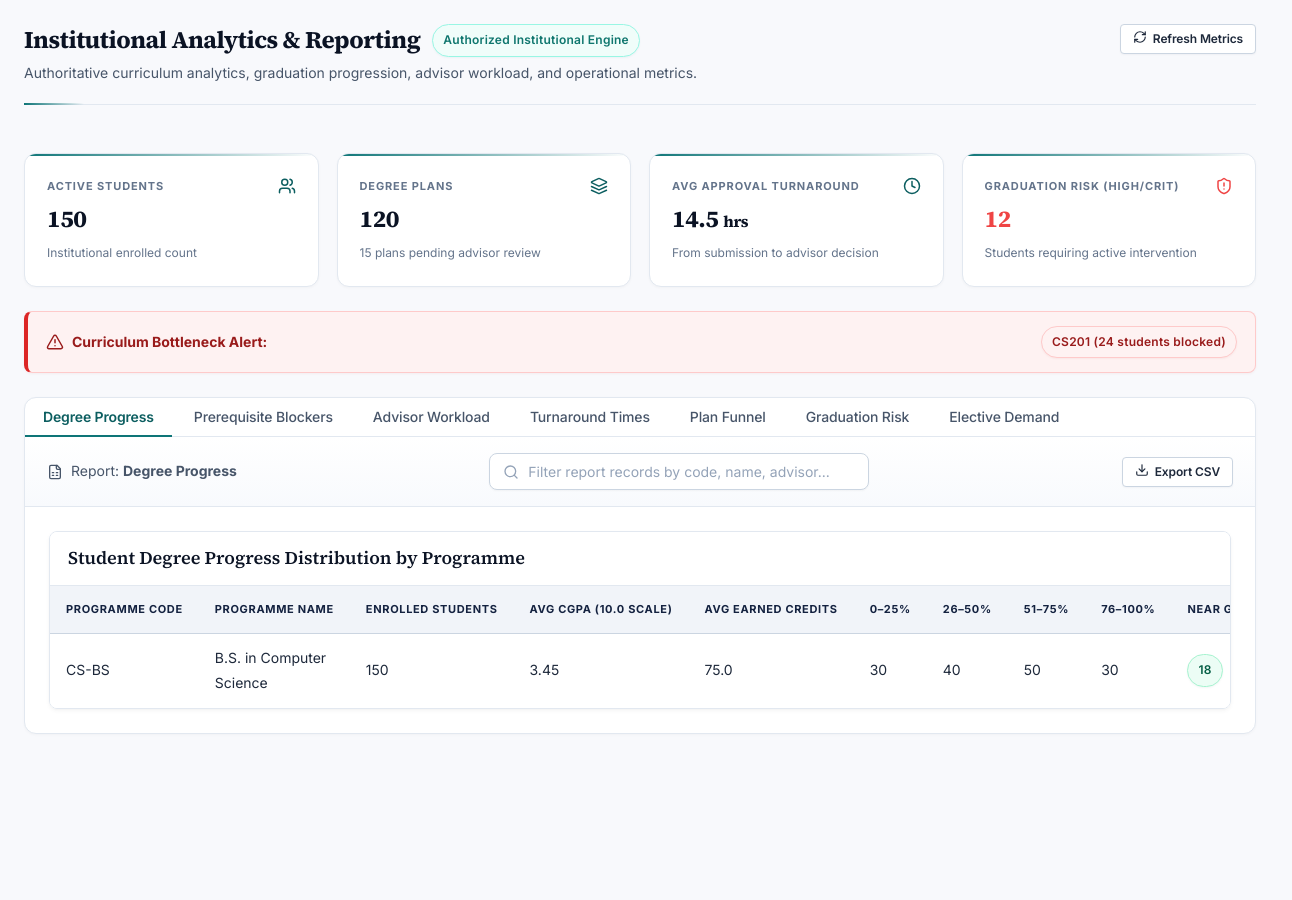
AnalyticsDashboardPage › switches between tabs and loads corresponding report data
// Click Prerequisite Blockers tab
Click the tab "Prerequisite Blockers". click: (263, 418)
box: [176,398,351,437]
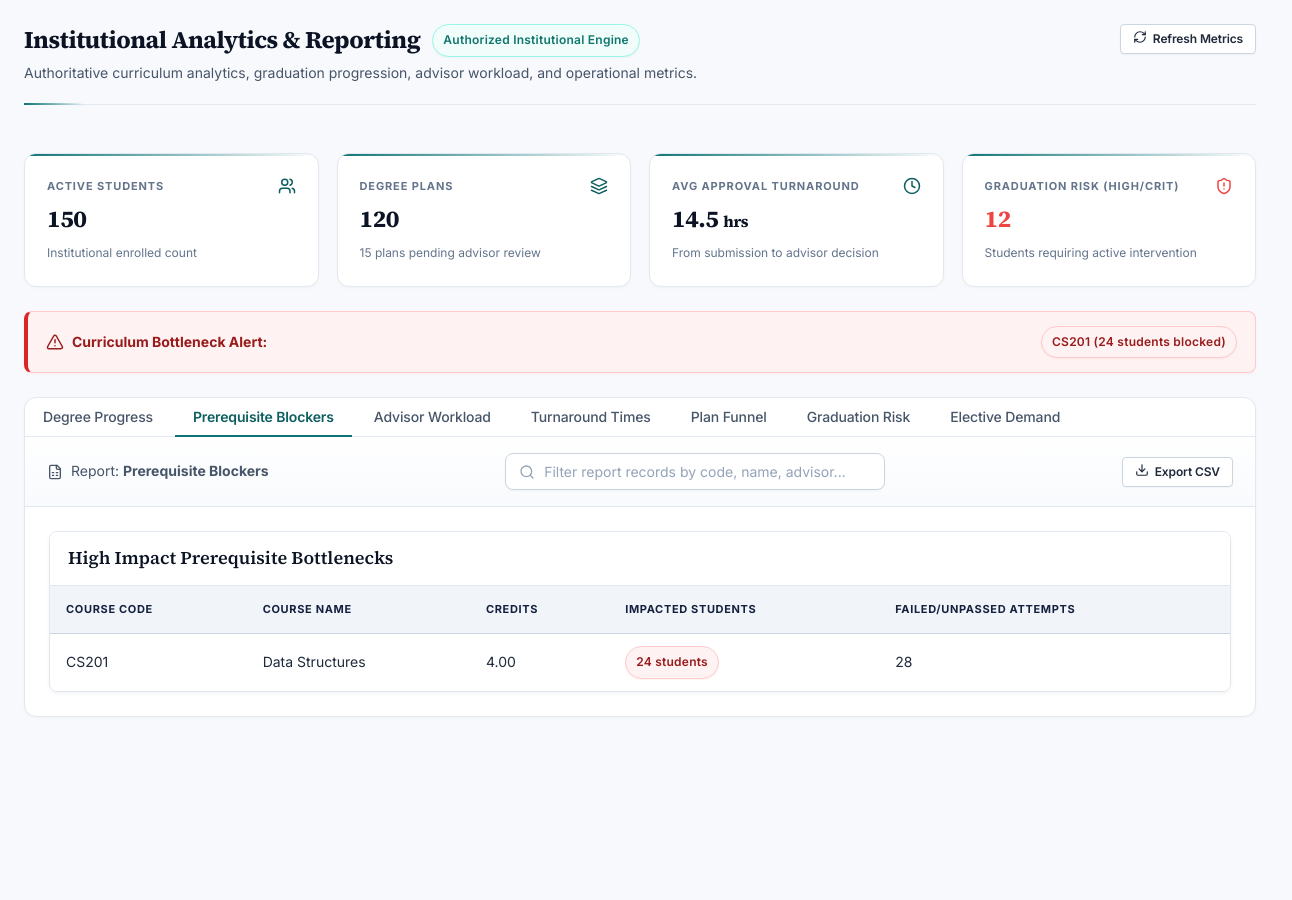
Expected: the column heading "Failed/Unpassed Attempts" is shown, [879,586,1230,634]
Expected: the text "24 students" is shown, [636,650,708,675]
// Click Advisor Workload tab
Click the tab "Advisor Workload". click: (432, 418)
box: [356,398,509,437]
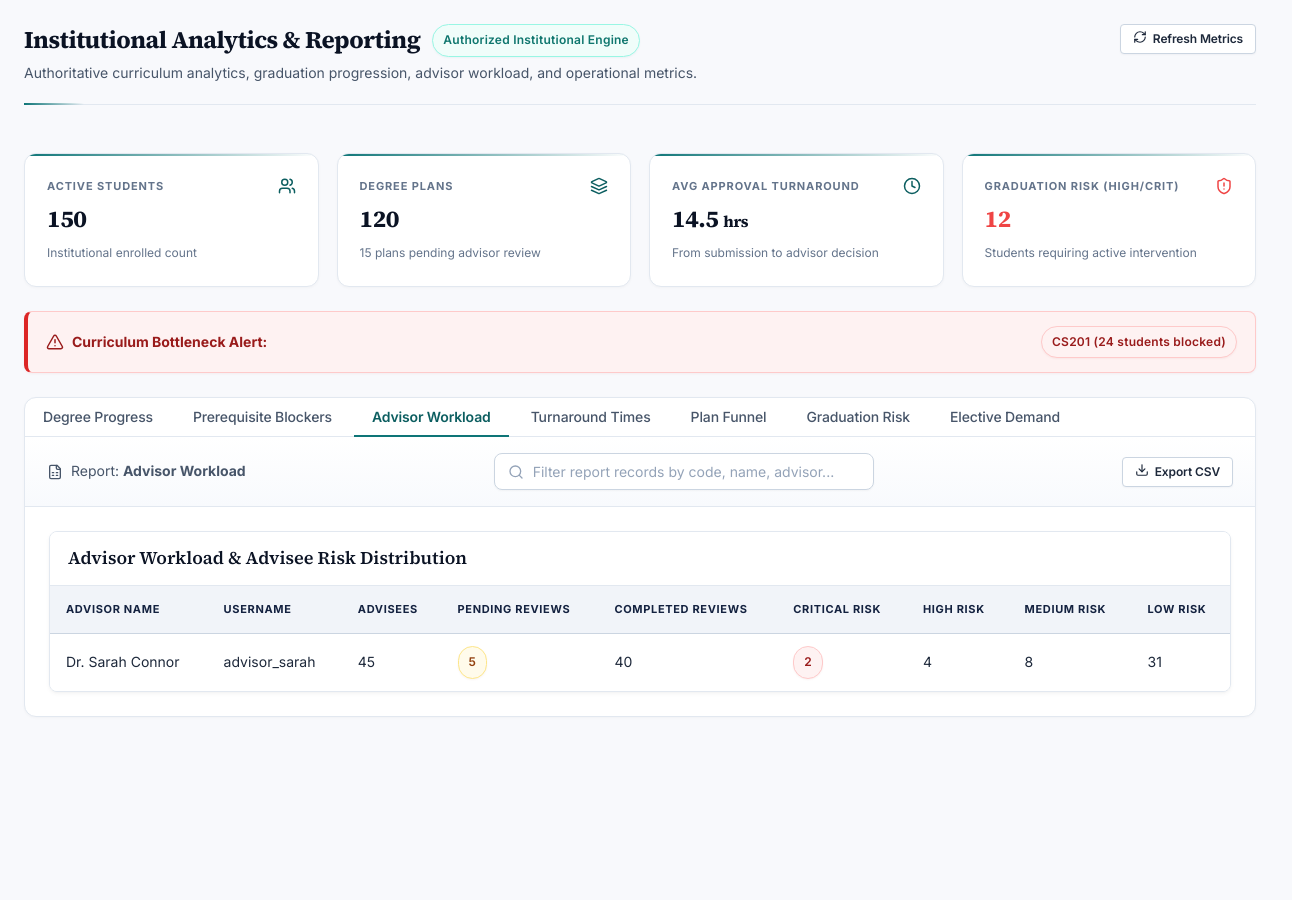
Expected: the text "Dr. Sarah Connor" is shown, [50,634,208,691]
Expected: the text "45" is shown, [342,634,442,691]
// Click Turnaround Times tab
Click the tab "Turnaround Times". click: (591, 418)
box: [513,398,669,437]
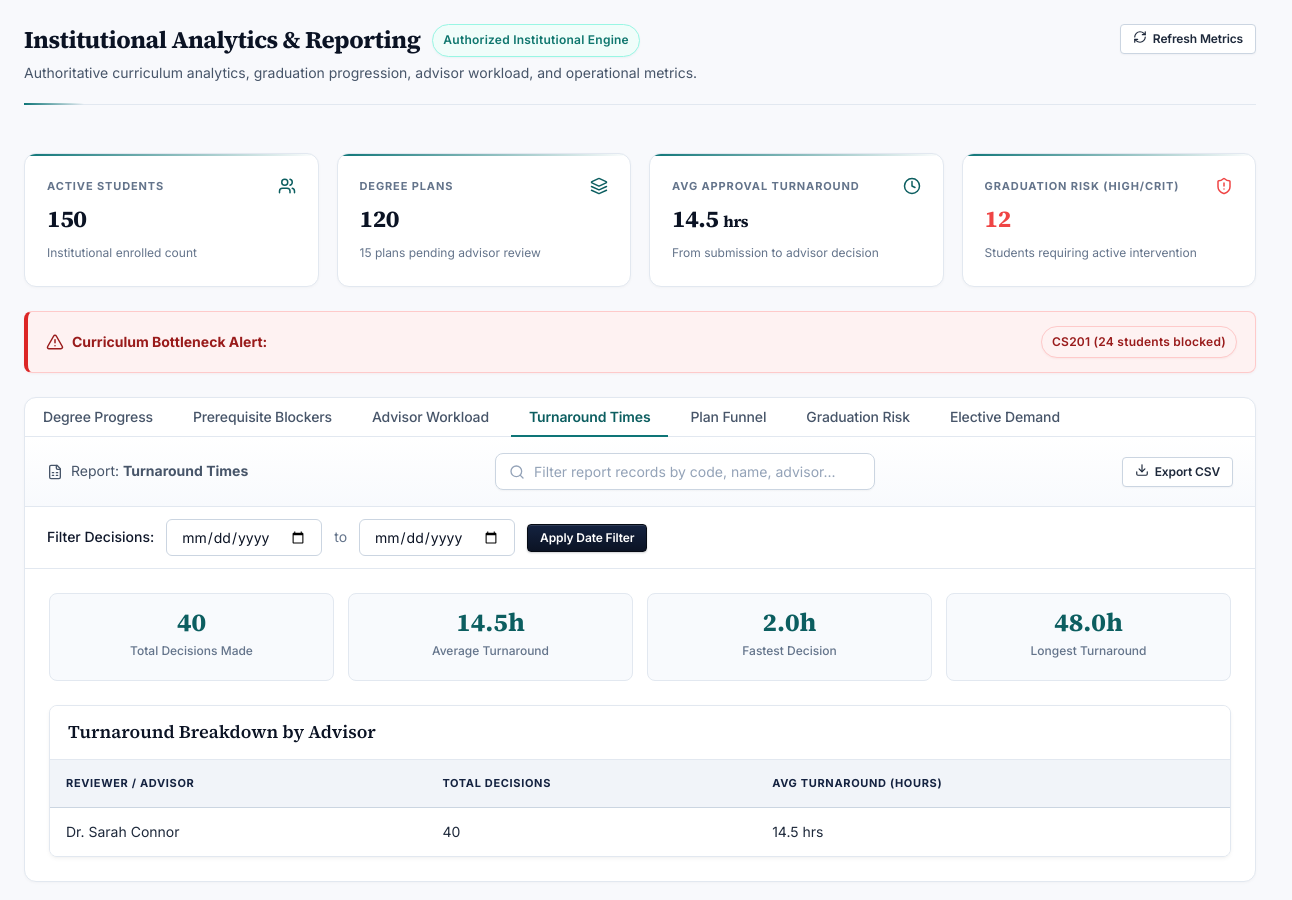
Expected: the text "Fastest Decision" is shown, [742,643,837,658]
Expected: the text "Total Decisions Made" is shown, [130,643,253,658]
// Click Plan Funnel tab
Click the tab "Plan Funnel". click: (728, 418)
box: [672,398,784,437]
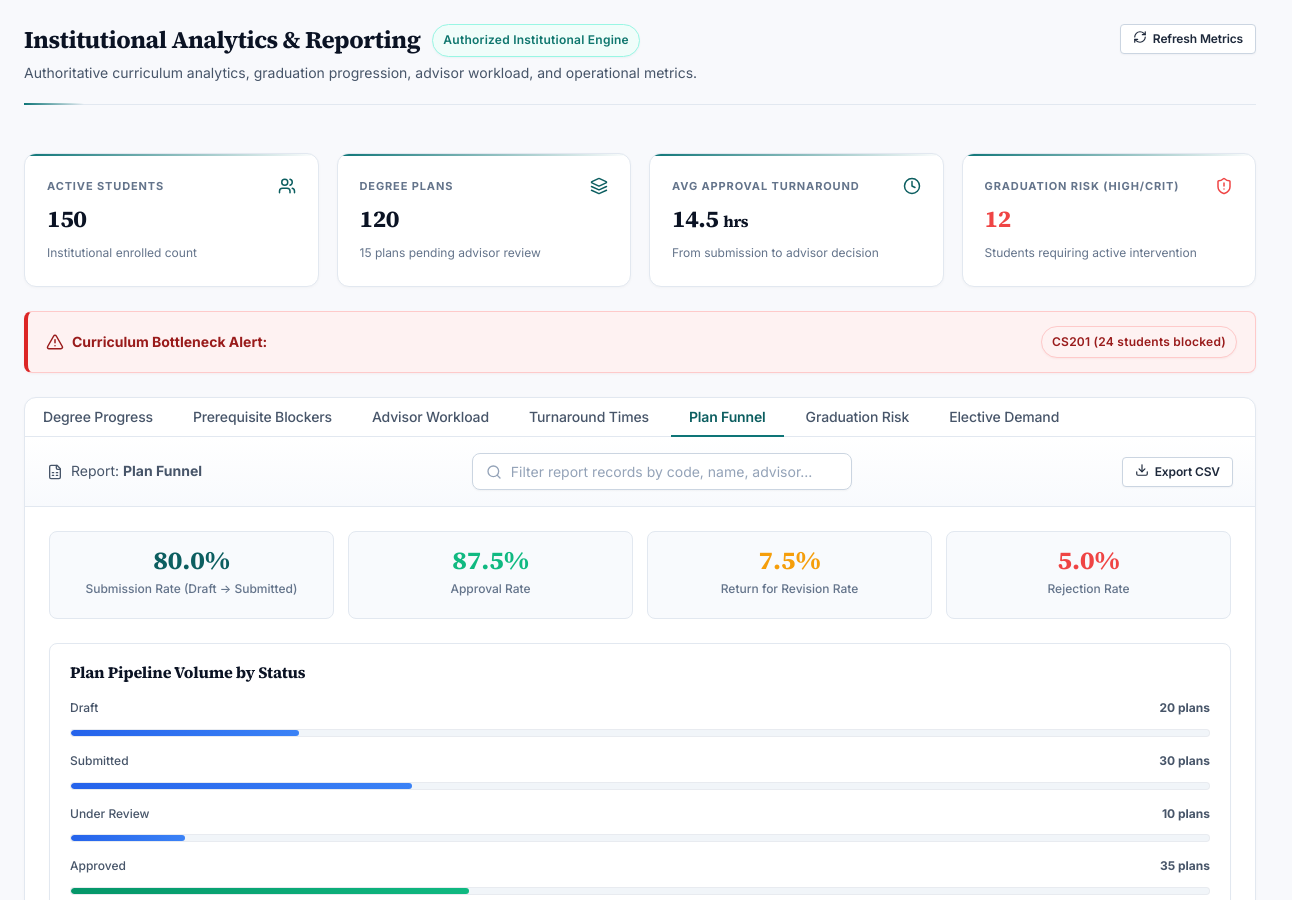
Expected: the text "80.0%" is shown, [153,542,230,578]
Expected: the heading "Plan Pipeline Volume by Status" is shown, [70,661,305,683]
// Click Graduation Risk tab
Click the tab "Graduation Risk". click: (857, 418)
box: [788,398,927,437]
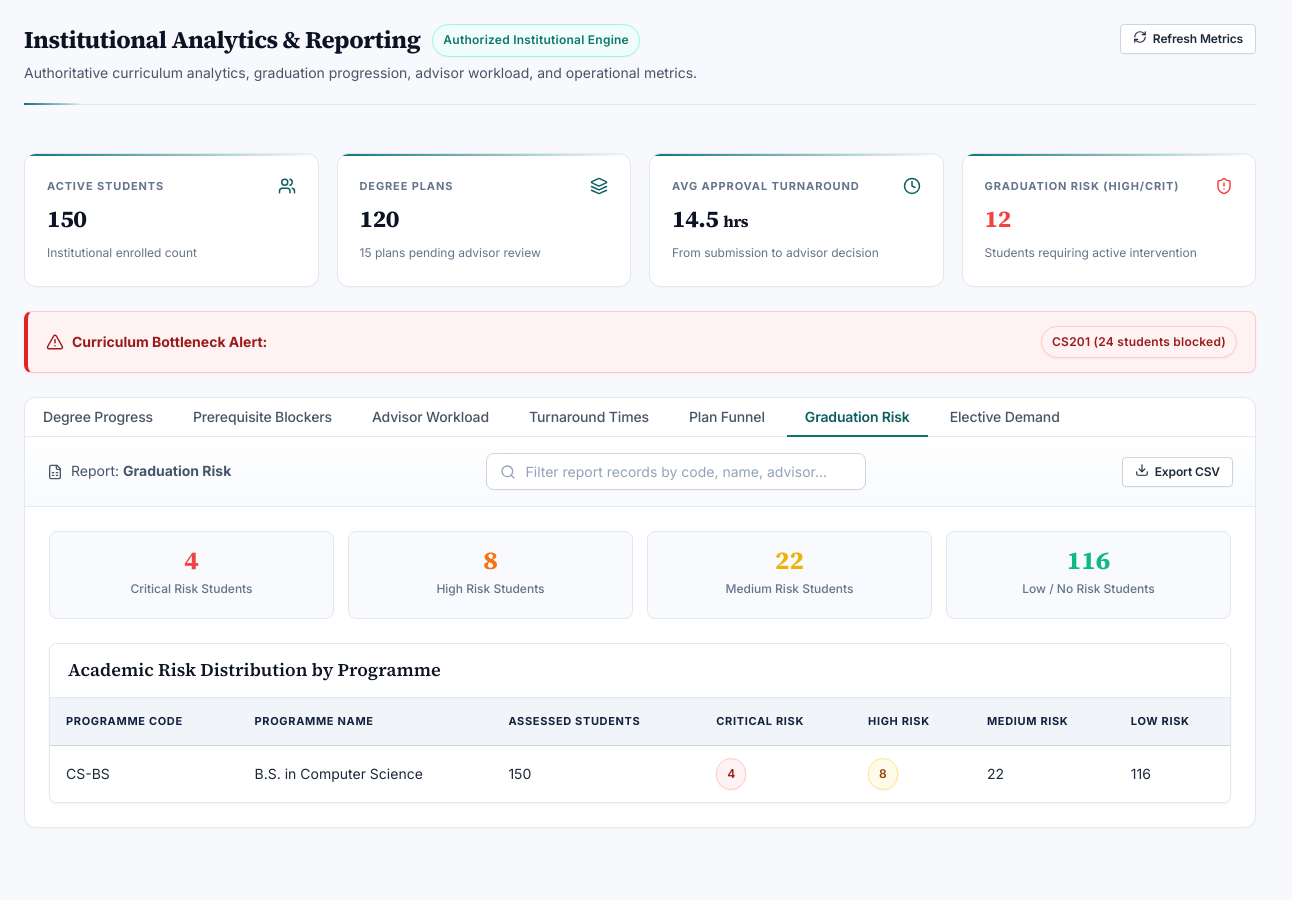
Expected: the text "Critical Risk Students" is shown, [130,581,252,596]
Expected: the text "High Risk Students" is shown, [436,581,545,596]
// Click Elective Demand tab
Click the tab "Elective Demand". click: (1005, 418)
box: [932,398,1078,437]
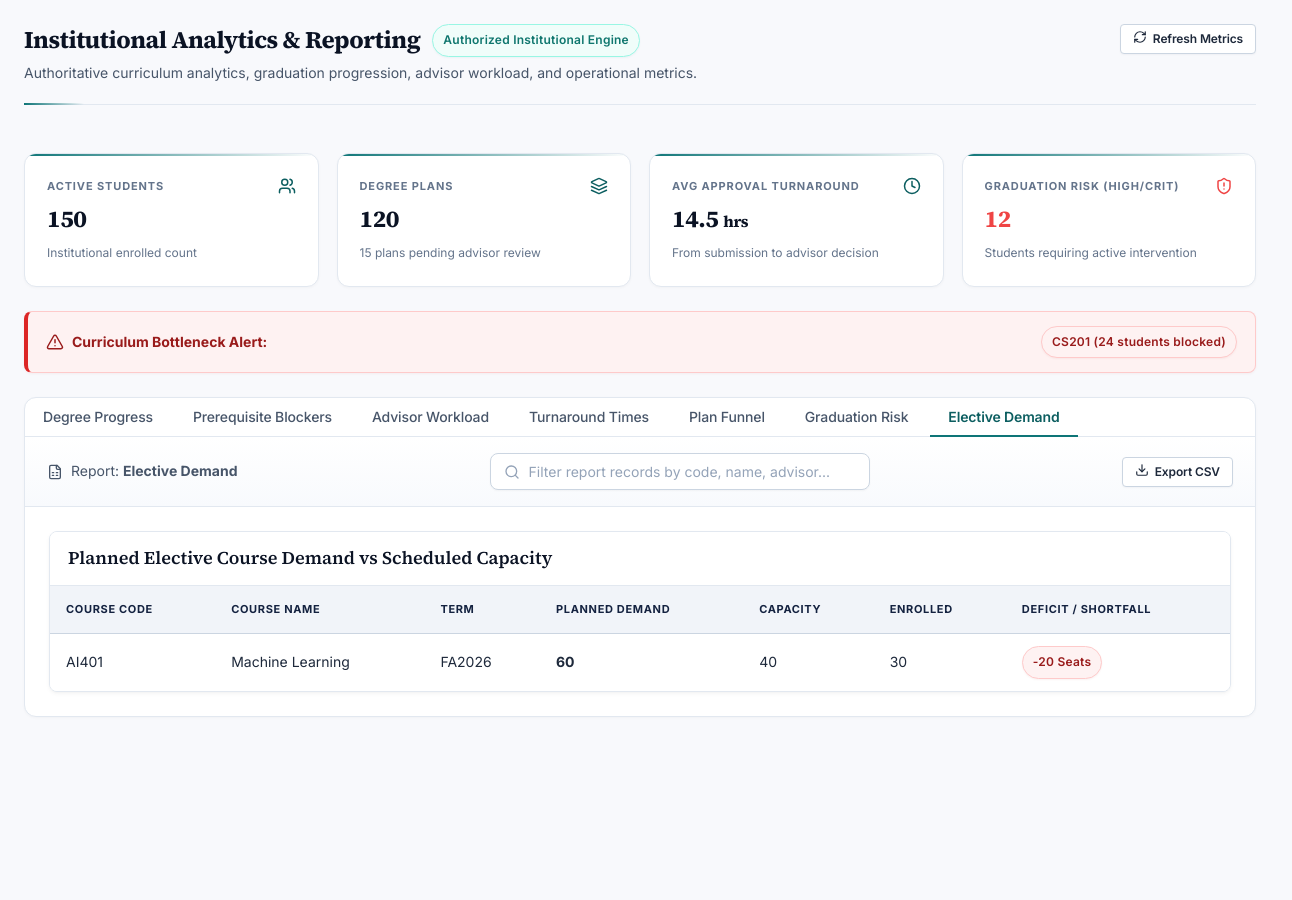
Expected: the text "AI401" is shown, [50,634,215,691]
Expected: the text "-20 Seats" is shown, [1033,650,1091,675]
